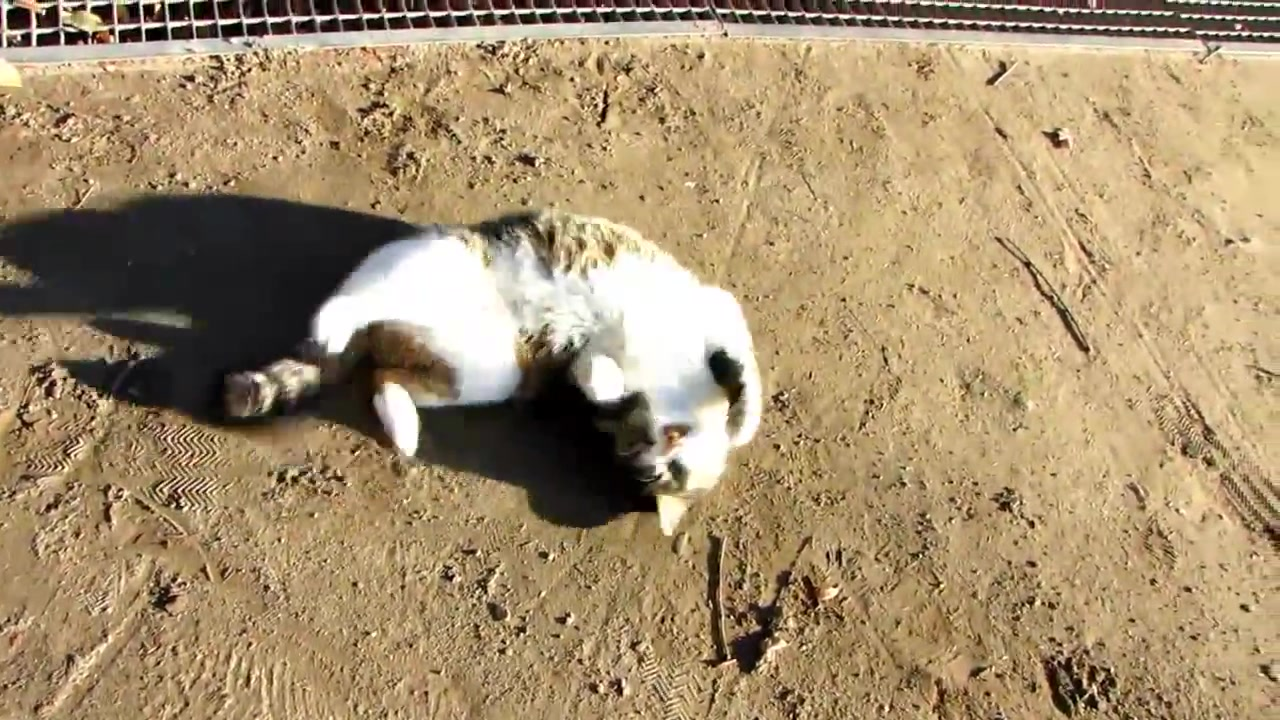cat: (224, 205, 765, 542)
